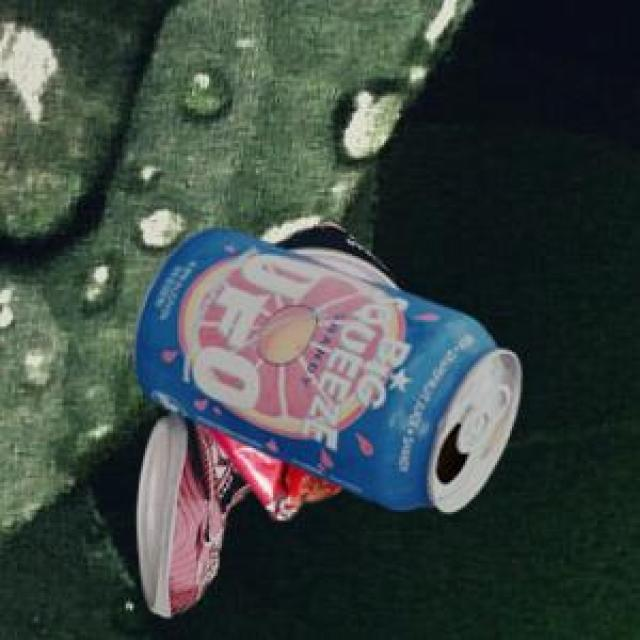Can: (131, 227, 517, 509), (133, 409, 254, 613), (272, 219, 396, 402), (203, 423, 338, 515)
